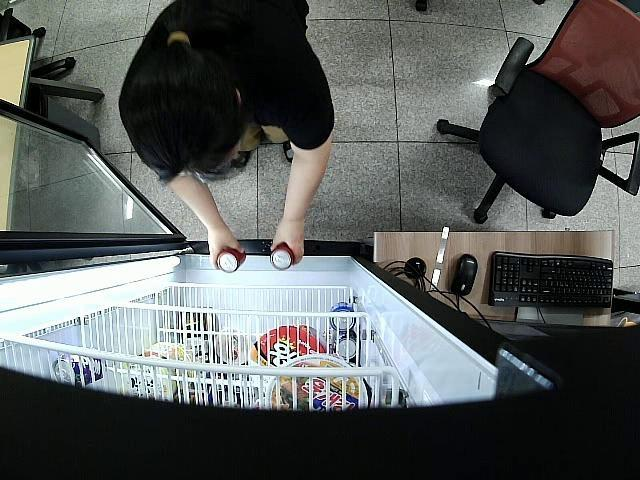11_cocaColaZero: (216, 248, 247, 273), (270, 243, 294, 271)
